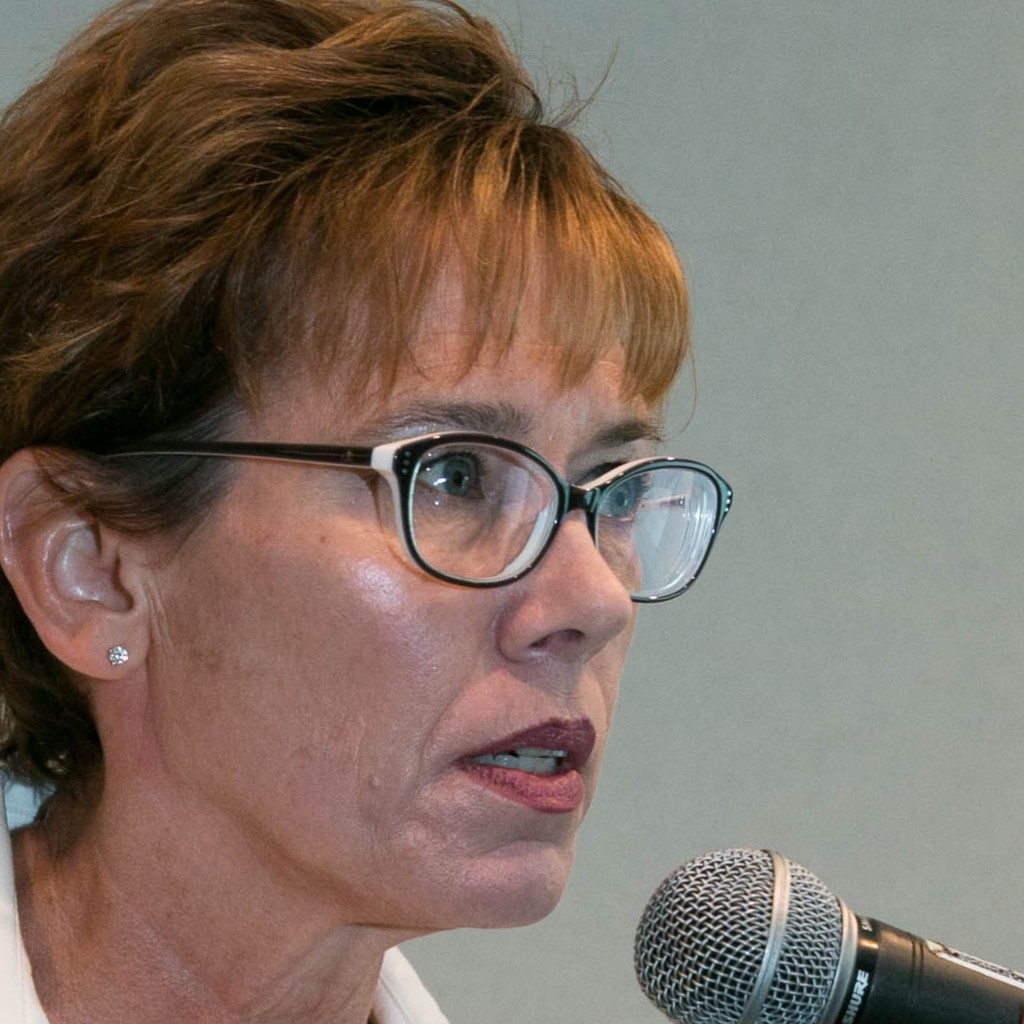sin_mascara: (65, 149, 648, 964)
